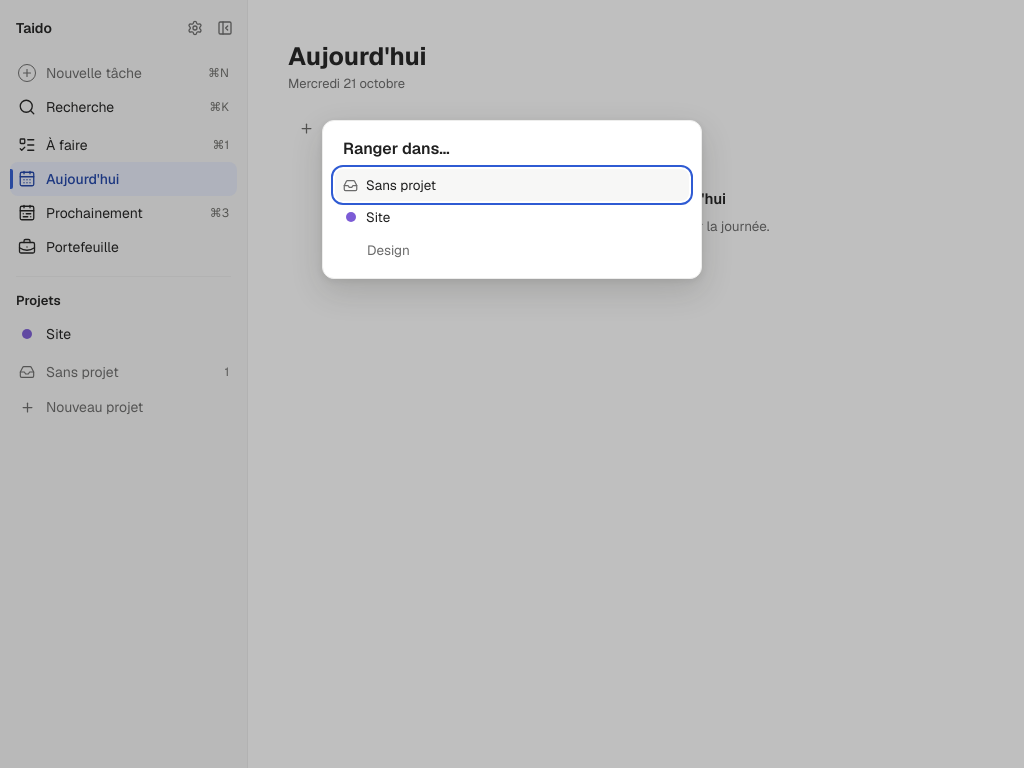
Test: Déplacer vers… dialog › is titled « Ranger dans… » for a task of Sans projet and uses colored dots
This screenshot has width=1024, height=768.
Click the button "Design".
click(388, 250)  # box top-left (335, 234), bottom-right (689, 266)
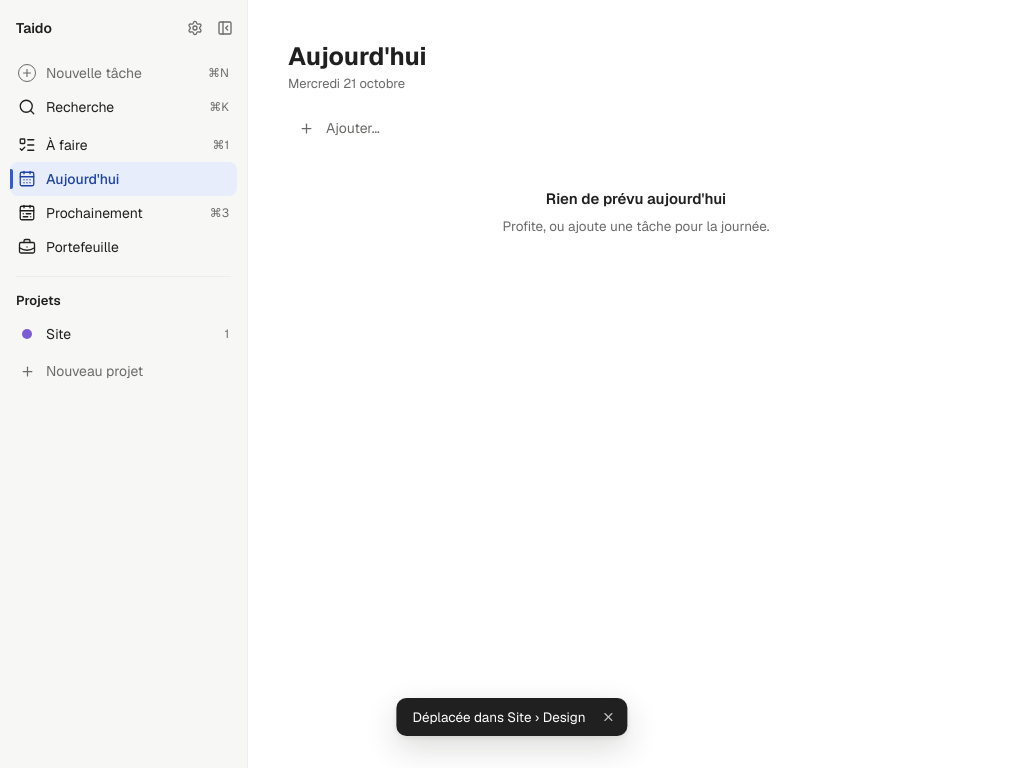
Now the text "Déplacée dans Site › Design" is shown, box top-left (412, 707), bottom-right (586, 727)
